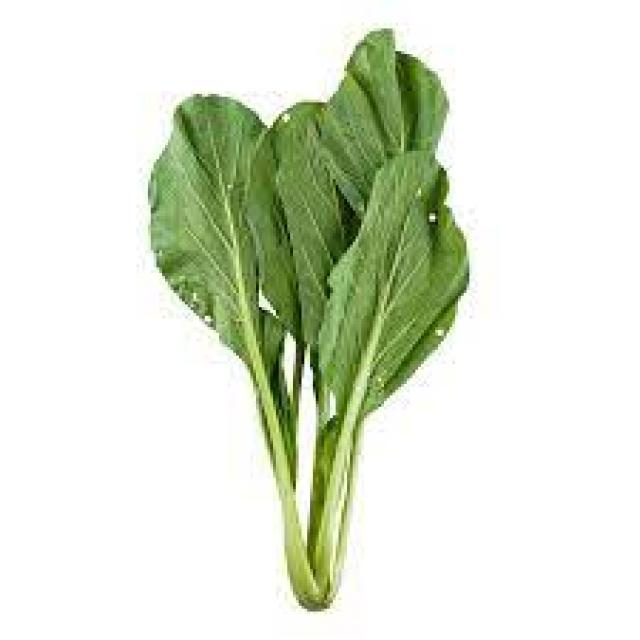bokchoy: (150, 24, 474, 613)
